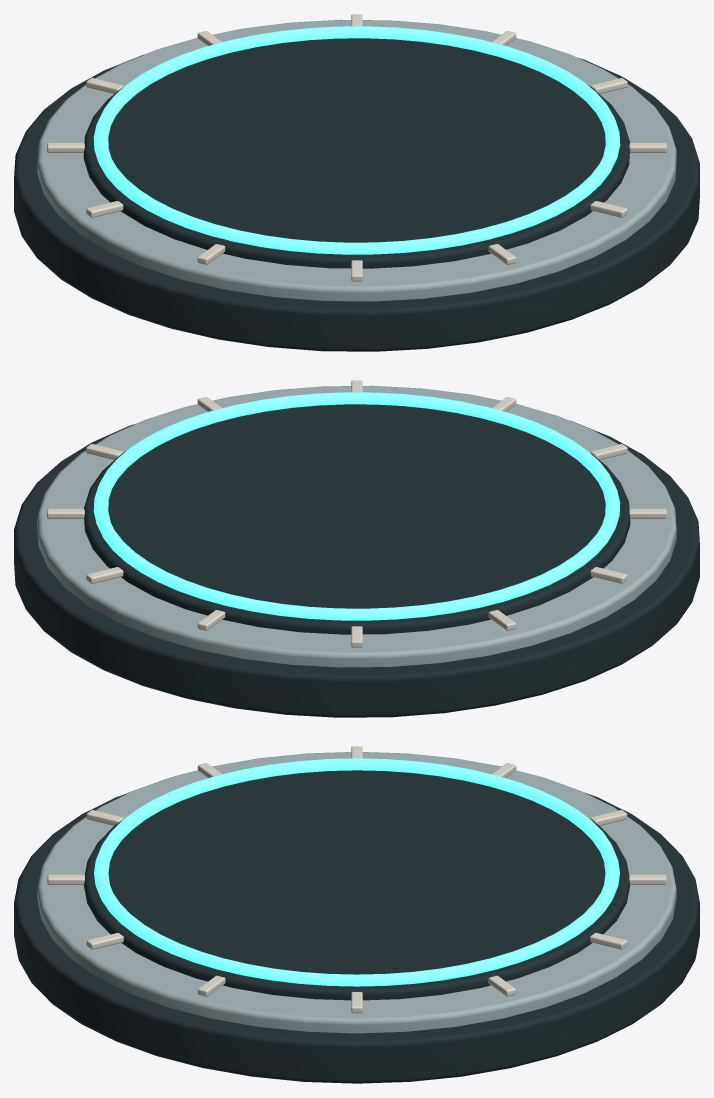
Rendered from relay-node.glb.
The picture shows the model from 3 angles, top to bottom: view 1: azimuth 30°, elevation 25°; view 2: azimuth 150°, elevation 25°; view 3: azimuth 270°, elevation 25°; orthographic projection.
Parts seen in each view (by area): view 1: Pressure surface, Foot.001, Rim, Cyan emitter; view 2: Pressure surface, Foot.001, Rim, Cyan emitter; view 3: Pressure surface, Foot.001, Rim, Cyan emitter.
Boxes of the visible parts, x1,y1,x2,y2 form: Pressure surface: (83, 38, 630, 268); Foot.001: (14, 54, 699, 351); Rim: (37, 19, 676, 301); Cyan emitter: (93, 26, 620, 254); Pressure surface: (83, 404, 630, 634); Foot.001: (14, 420, 699, 717); Rim: (37, 385, 676, 667); Cyan emitter: (93, 392, 620, 620); Pressure surface: (83, 770, 630, 1000); Foot.001: (14, 792, 699, 1083); Rim: (37, 752, 676, 1033); Cyan emitter: (94, 758, 619, 986).
Size of the model in its own units: 2.36 by 0.28 by 2.36.
